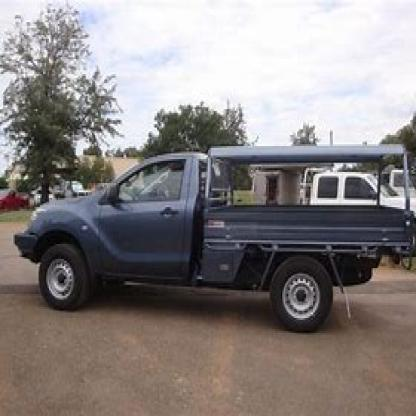light_vehicle: (6, 133, 414, 337)
